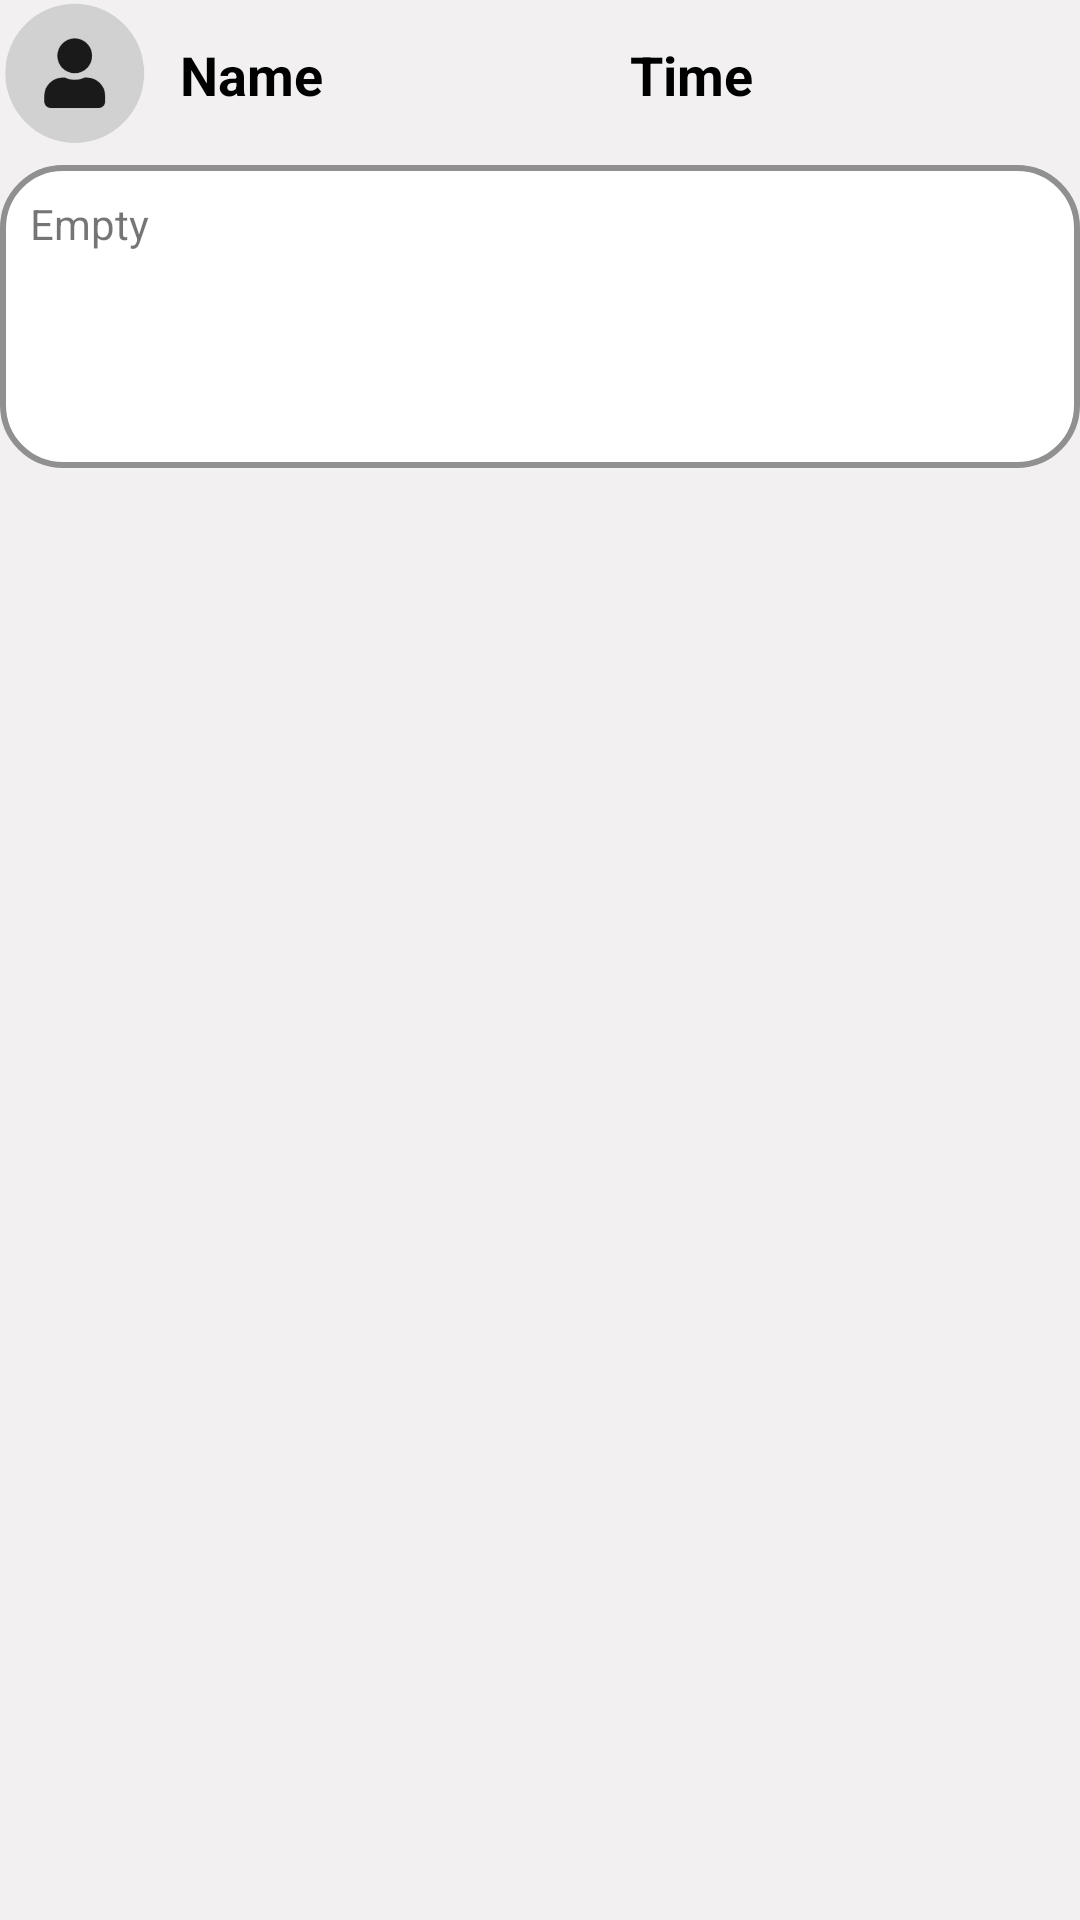

Named icons in this screenshot (1080x1920) and their bounding boxes, (x1, y1, x2, y2):
person unknown: (6, 4, 144, 143)
